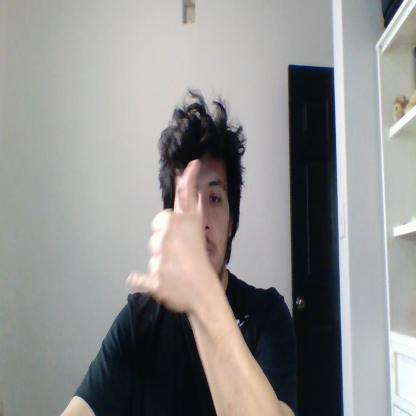Y: (126, 158, 206, 312)
